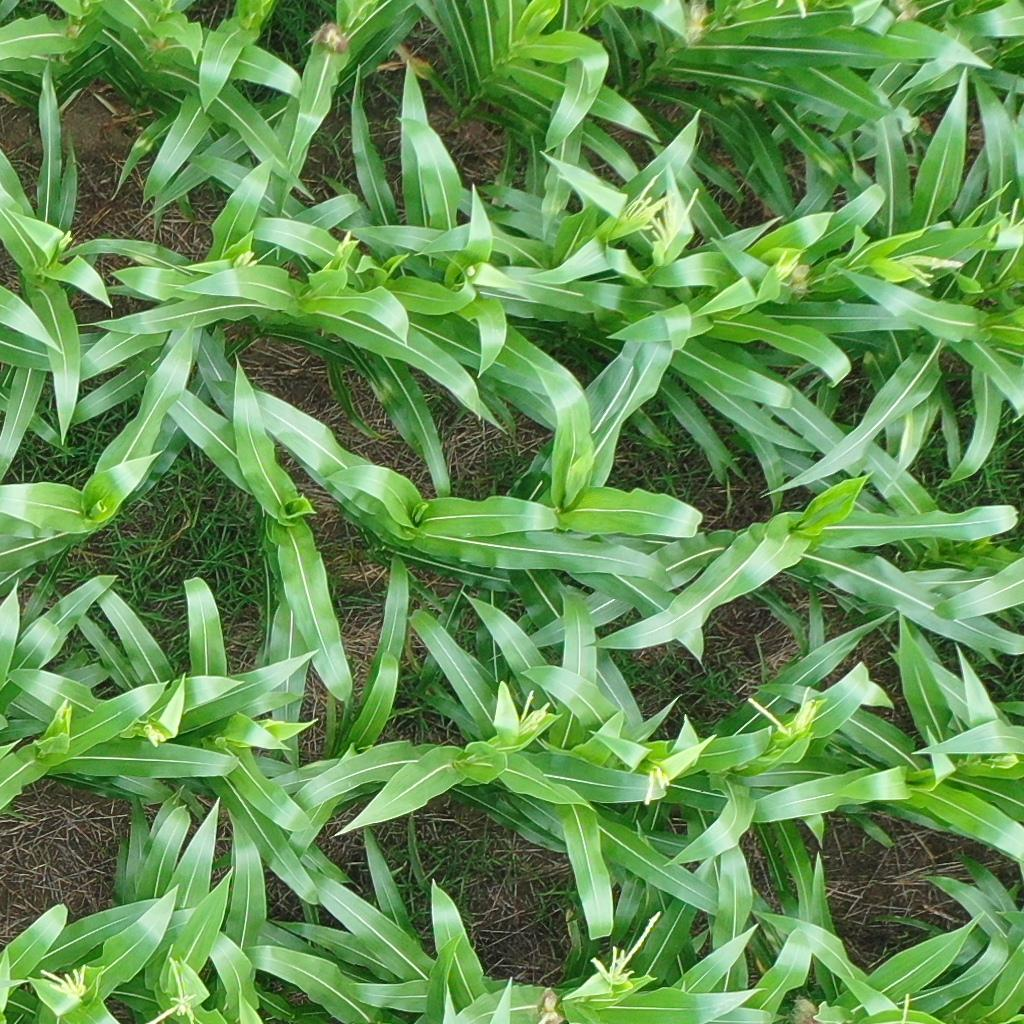Tassel: (588, 907, 664, 986), (741, 687, 820, 743), (654, 184, 703, 255), (148, 958, 199, 1024), (621, 171, 668, 232), (897, 253, 965, 290), (38, 961, 88, 1005), (641, 758, 674, 810), (514, 690, 549, 737), (771, 248, 803, 287), (137, 718, 168, 749), (229, 247, 259, 276)
